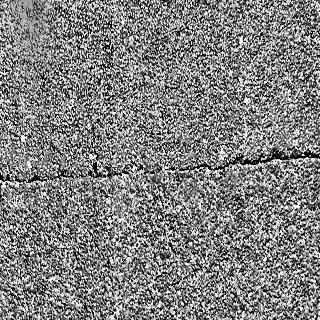crack: (2, 152, 320, 181)
